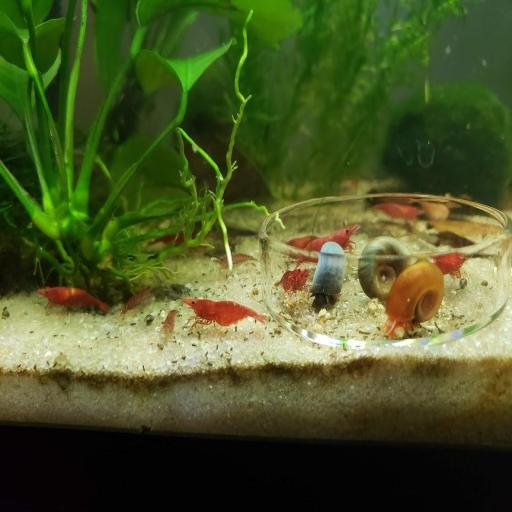Shrimp: (179, 294, 272, 338), (34, 278, 108, 328), (413, 248, 488, 282), (277, 226, 359, 254), (270, 262, 316, 301), (378, 198, 428, 228), (157, 304, 180, 351)
Snail: (356, 237, 420, 310), (387, 262, 443, 336), (314, 236, 345, 318)
